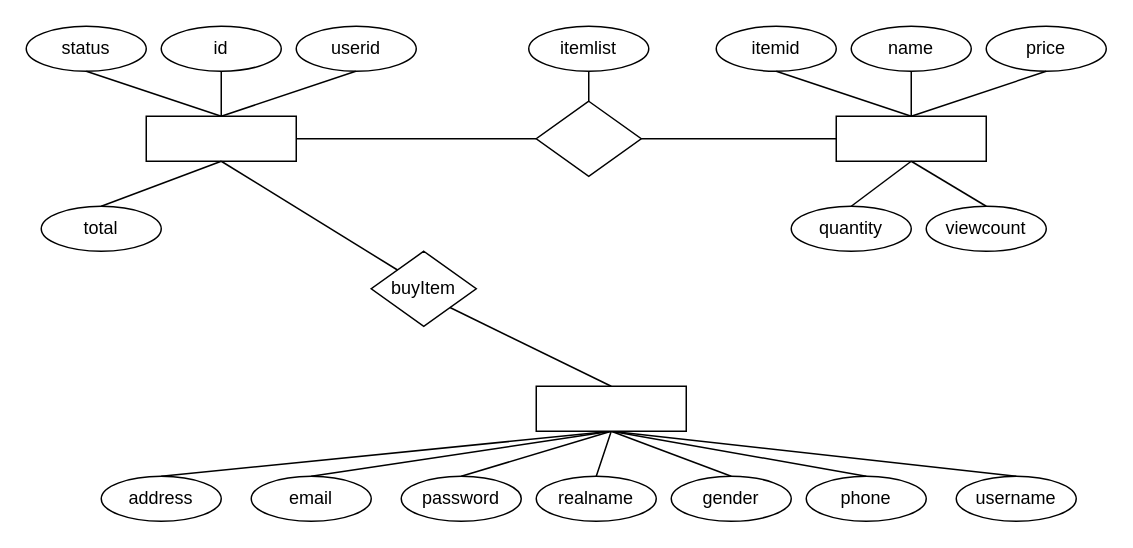
The diagram is 1133 pixels wide and 548 high, and some of its shapes have lost their labels. The centre of each missing label's shape, as x and y in pixels:
"belong" goes at pixel 588 138.
"Item" goes at pixel 910 138.
"order" goes at pixel 220 138.
"user" goes at pixel 610 408.
